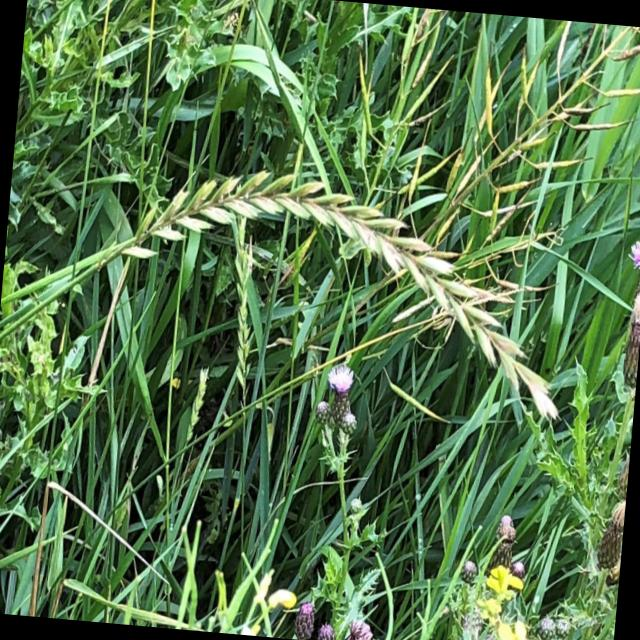Lolium: (130, 152, 576, 428)
